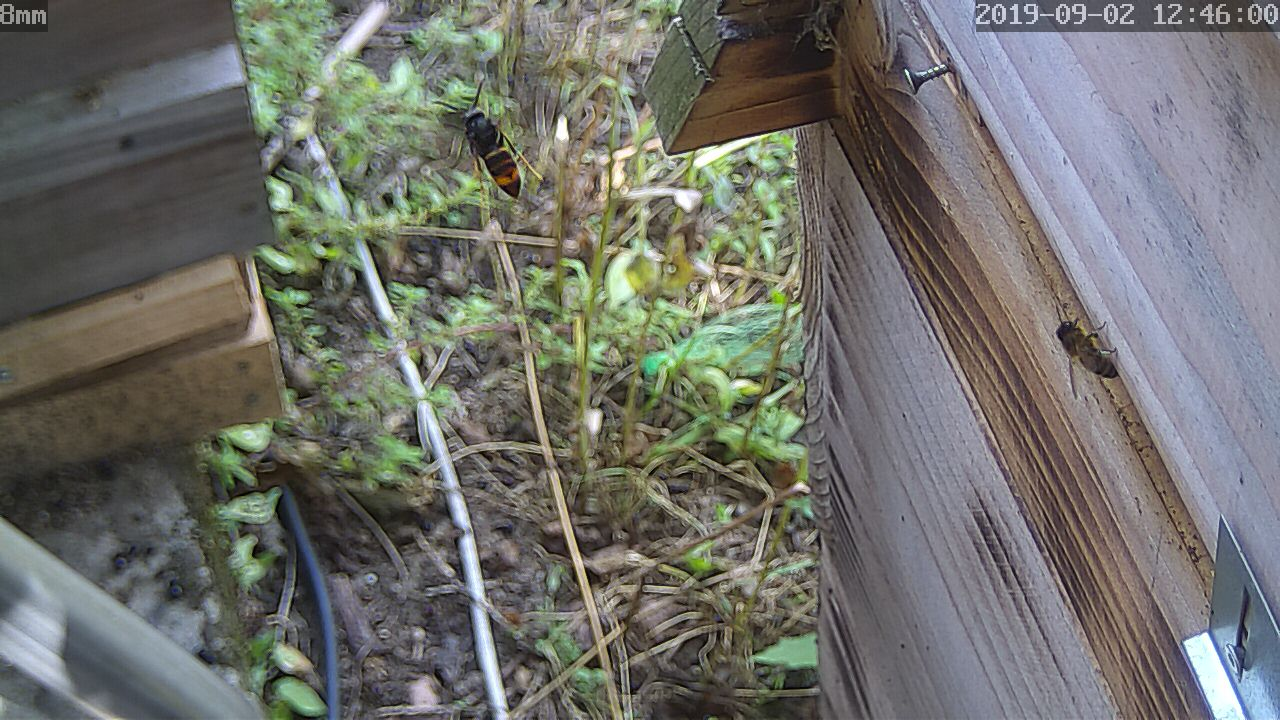bee: (1045, 305, 1139, 391)
hornet: (444, 95, 526, 203)
